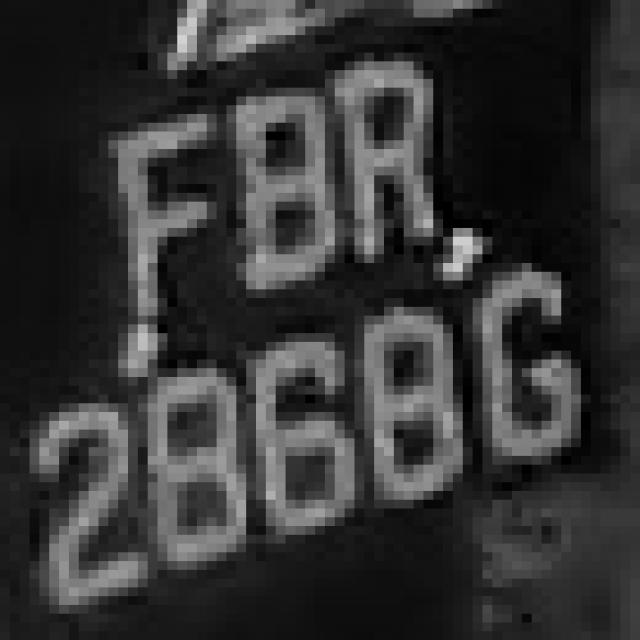2: (10, 394, 157, 622)
5: (236, 316, 354, 534)
8: (344, 289, 482, 526), (128, 359, 256, 570)
B: (197, 70, 335, 298)
F: (79, 105, 236, 333)
G: (453, 263, 581, 465)
R: (286, 52, 462, 272)
